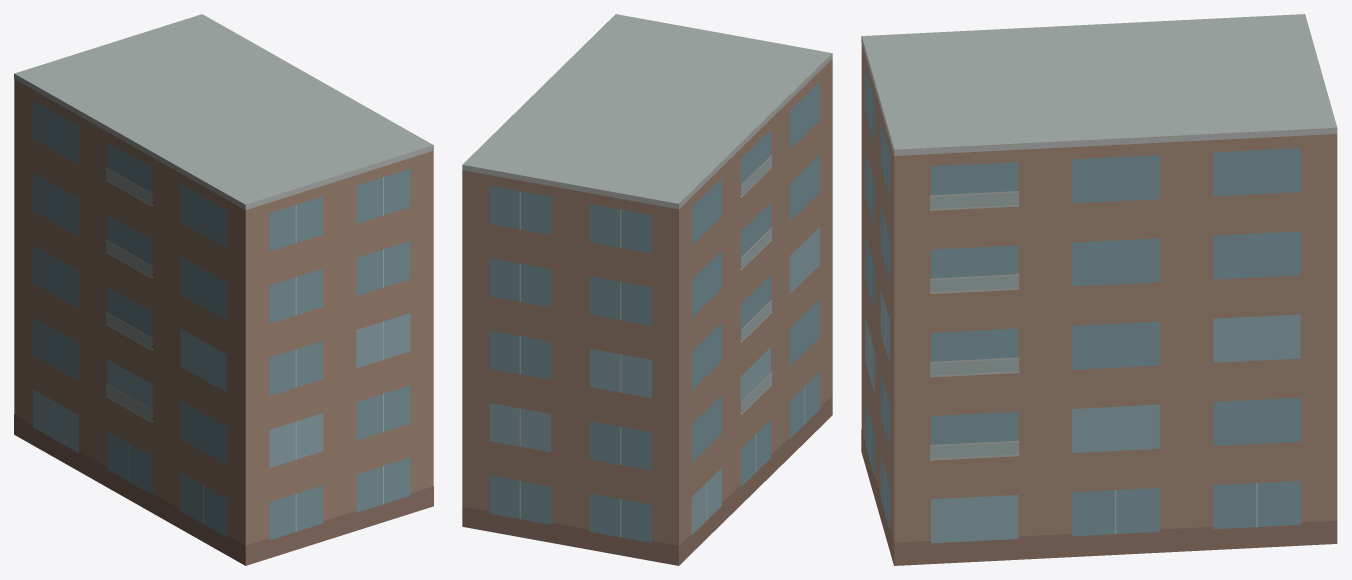
Rendered from survey-upis-32759532.glb.
3 renders of one model, left to right at view 1: azimuth 30°, elevation 25°; view 2: azimuth 150°, elevation 25°; view 3: azimuth 270°, elevation 25°, orthographic. The views are drawn at different scales.
Visible parts, largest first — view 1: survey-upis-32759532.tmp; view 2: survey-upis-32759532.tmp; view 3: survey-upis-32759532.tmp.
Boxes of the visible parts, x1=… form: survey-upis-32759532.tmp: x1=14, y1=14, x2=433, y2=565; survey-upis-32759532.tmp: x1=462, y1=14, x2=832, y2=565; survey-upis-32759532.tmp: x1=861, y1=14, x2=1337, y2=565.
Bounding box in the file's own units: 11.4 × 16.28 × 16.88.
